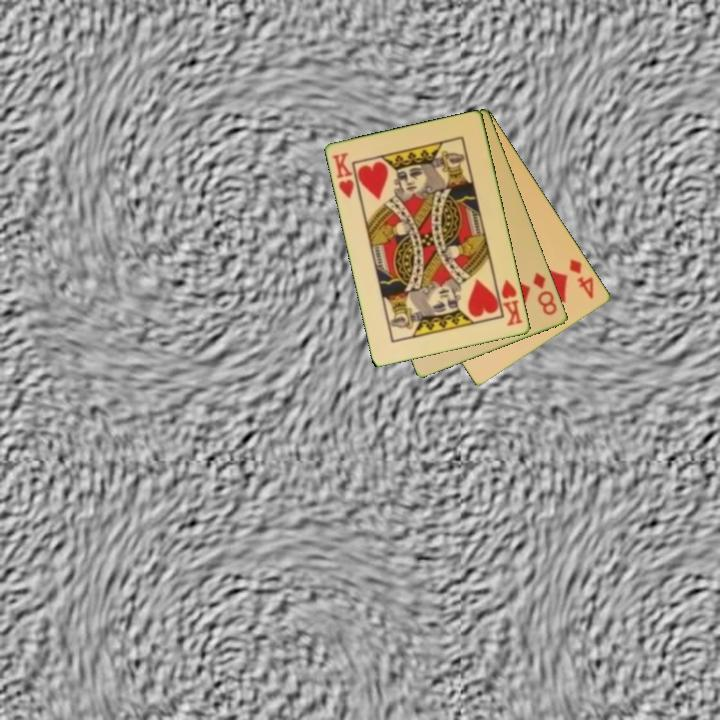4d: (566, 255, 597, 302)
8d: (530, 269, 560, 318)
Kh: (493, 276, 526, 329), (329, 149, 362, 202)
